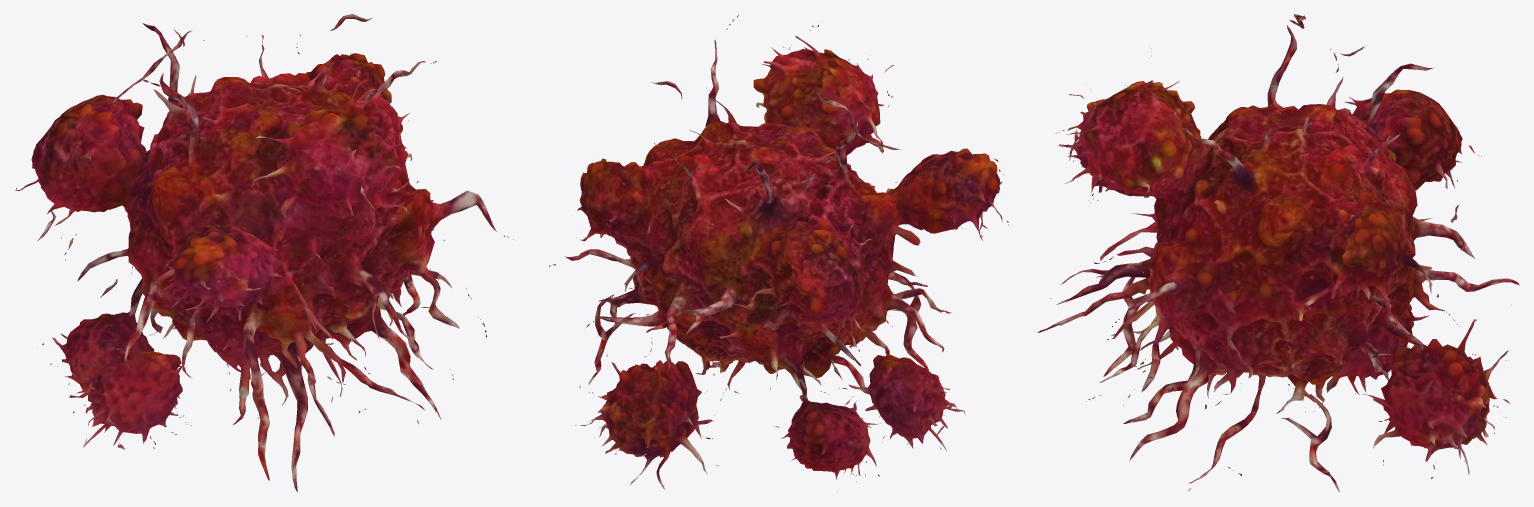
Rendered from rogue.glb.
The picture shows the model from 3 angles, left to right: view 1: azimuth 30°, elevation 25°; view 2: azimuth 150°, elevation 25°; view 3: azimuth 270°, elevation 25°; orthographic projection. The views are drawn at different scales.
Visible parts, largest first — view 1: attack-membrane; view 2: attack-membrane; view 3: attack-membrane.
Boxes of the visible parts, x1,y1,x2,y2 form: attack-membrane: (14, 14, 513, 492); attack-membrane: (549, 15, 1008, 492); attack-membrane: (1037, 14, 1519, 492).
Size of the model in its own units: 1.89 by 1.93 by 2.08.
1 material, 1 textured.
